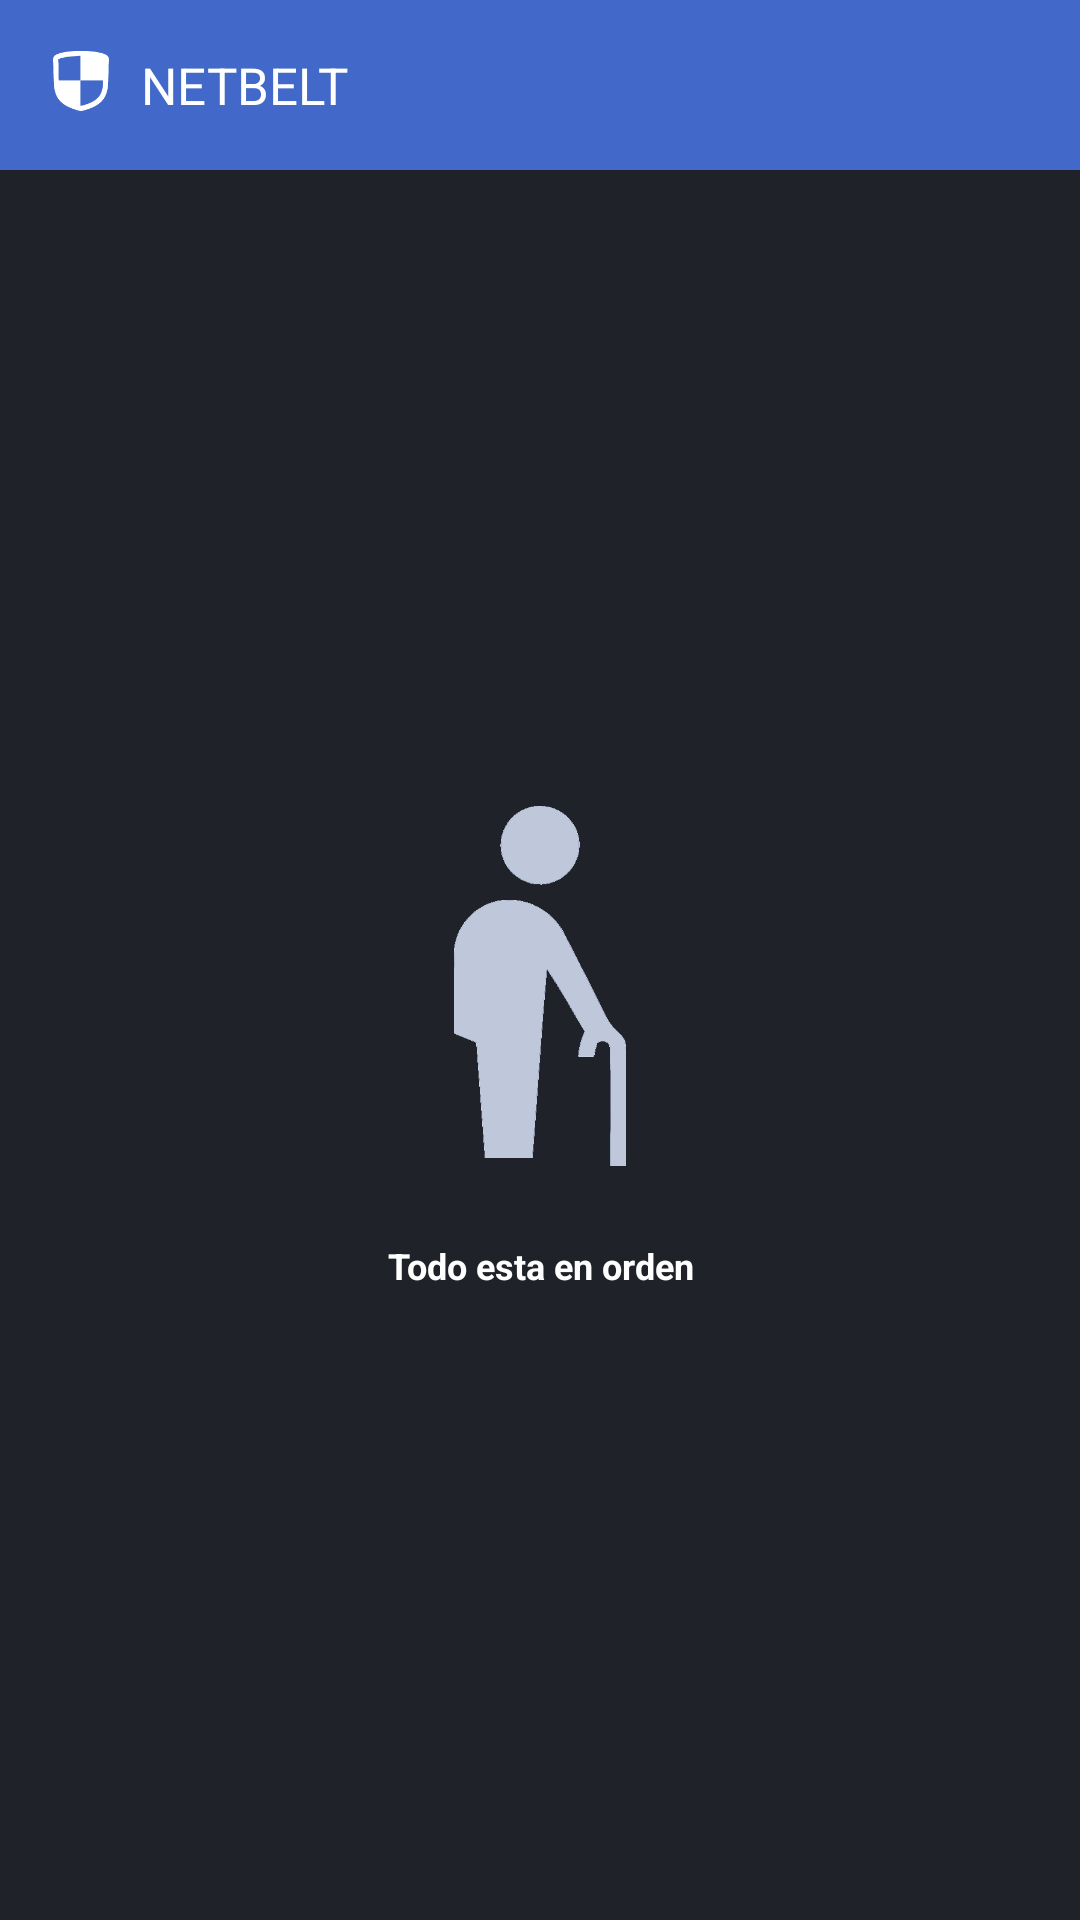

Named icons in this screenshot (1080 × 1920) and their bounding boxes, {"x1": x1, "y1": y1, "x2": x2, "y2": y2}:
grandfather: {"x1": 454, "y1": 806, "x2": 626, "y2": 1166}
